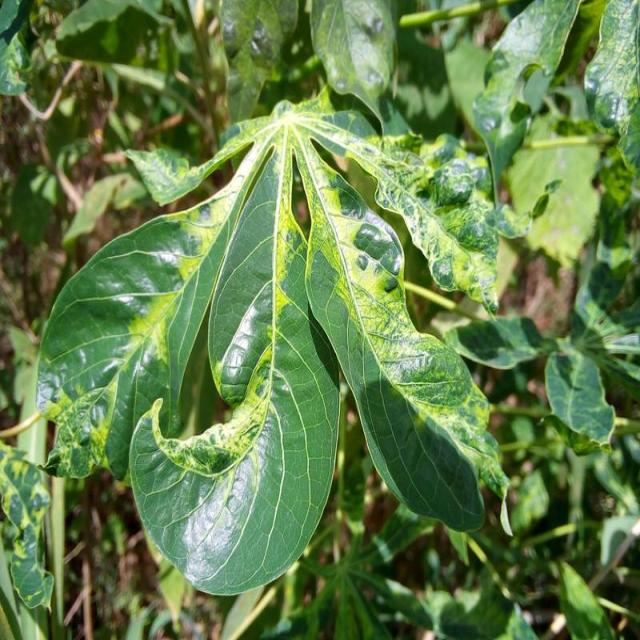cassava leaf: (35, 89, 512, 596), (128, 134, 342, 596)
